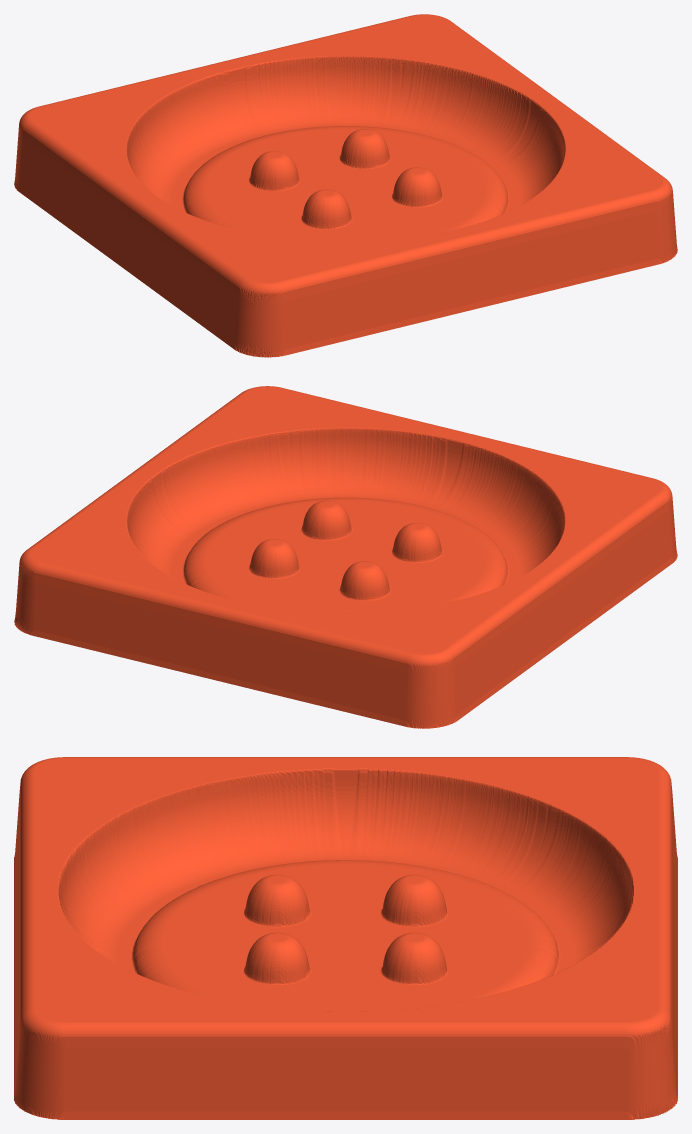
Rendered from mold.glb.
3 views of the same model, one above another, from view 1: azimuth 30°, elevation 25°; view 2: azimuth 150°, elevation 25°; view 3: azimuth 270°, elevation 25° (orthographic). The views are drawn at different scales.
Visible parts, largest first — view 1: geometry_0; view 2: geometry_0; view 3: geometry_0.
Part boxes in pixels (x1,y1,x2,y2): geometry_0: (14,14,677,357); geometry_0: (14,386,677,728); geometry_0: (14,757,677,1119).
Size of the model in its own units: 0.1178 by 0.0175 by 0.1178.
